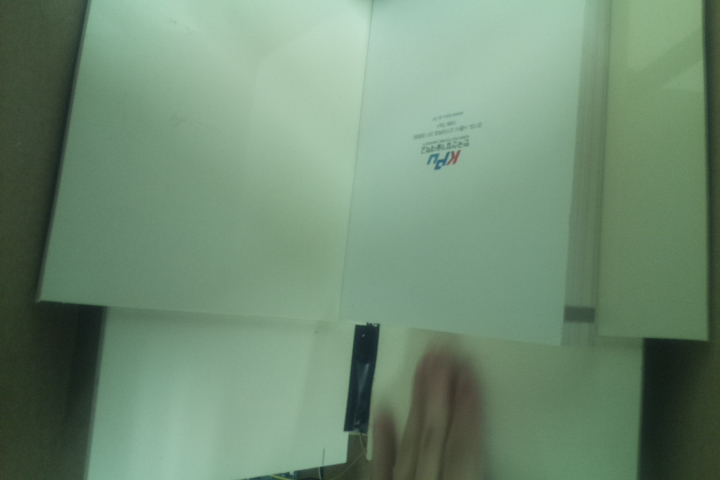book: (336, 1, 613, 347)
